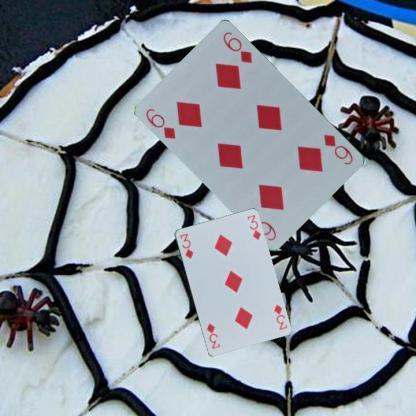3d: (270, 302, 288, 332), (178, 231, 194, 260)
6d: (321, 132, 355, 166), (144, 106, 178, 140)
